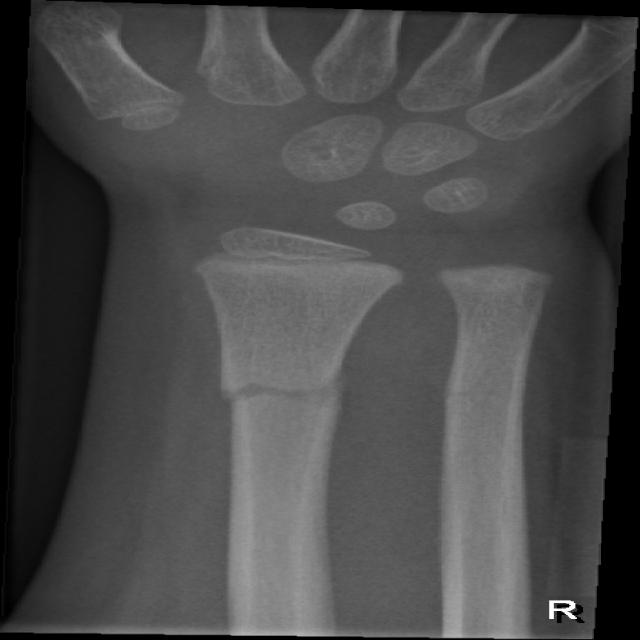radius fracture: (194, 342, 372, 469)
